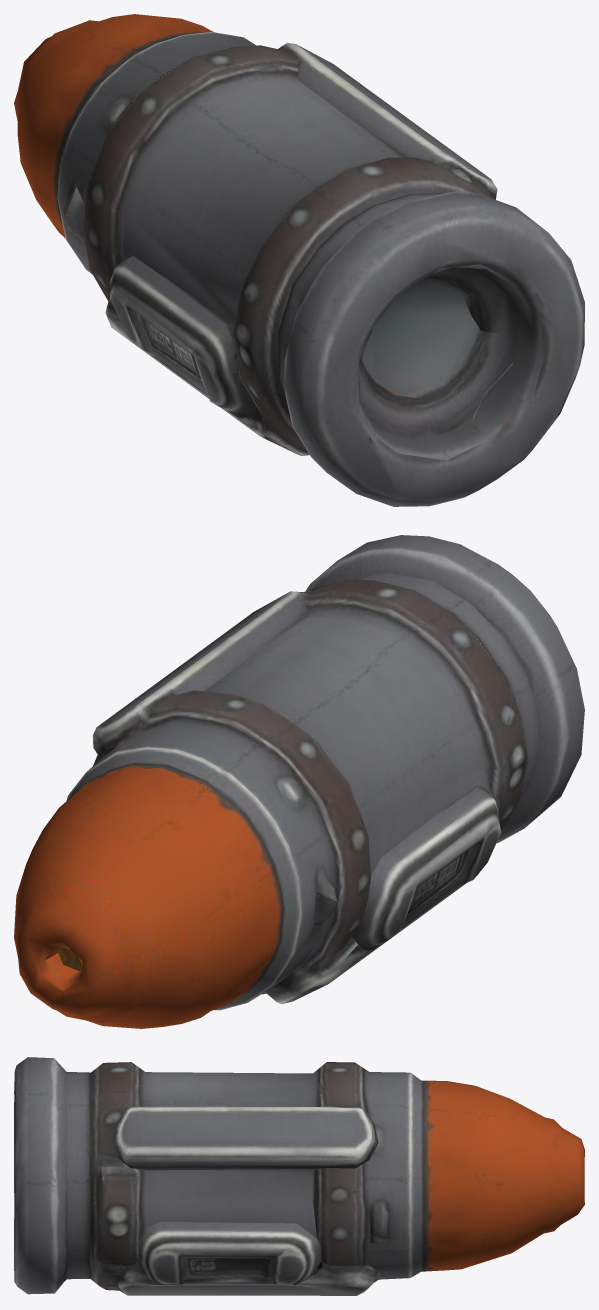
3 renders of one model, top to bottom at view 1: azimuth 30°, elevation 25°; view 2: azimuth 150°, elevation 25°; view 3: azimuth 270°, elevation 25°, orthographic. The views are drawn at different scales.
Visible parts, largest first — view 1: body; view 2: body; view 3: body.
Part boxes in pixels (x1,y1,x2,y2): body: (14,14,584,506); body: (14,535,584,1028); body: (14,1057,584,1295).
Size of the model in its own units: 0.1436 by 0.1371 by 0.3315.
1 material, 1 textured.
